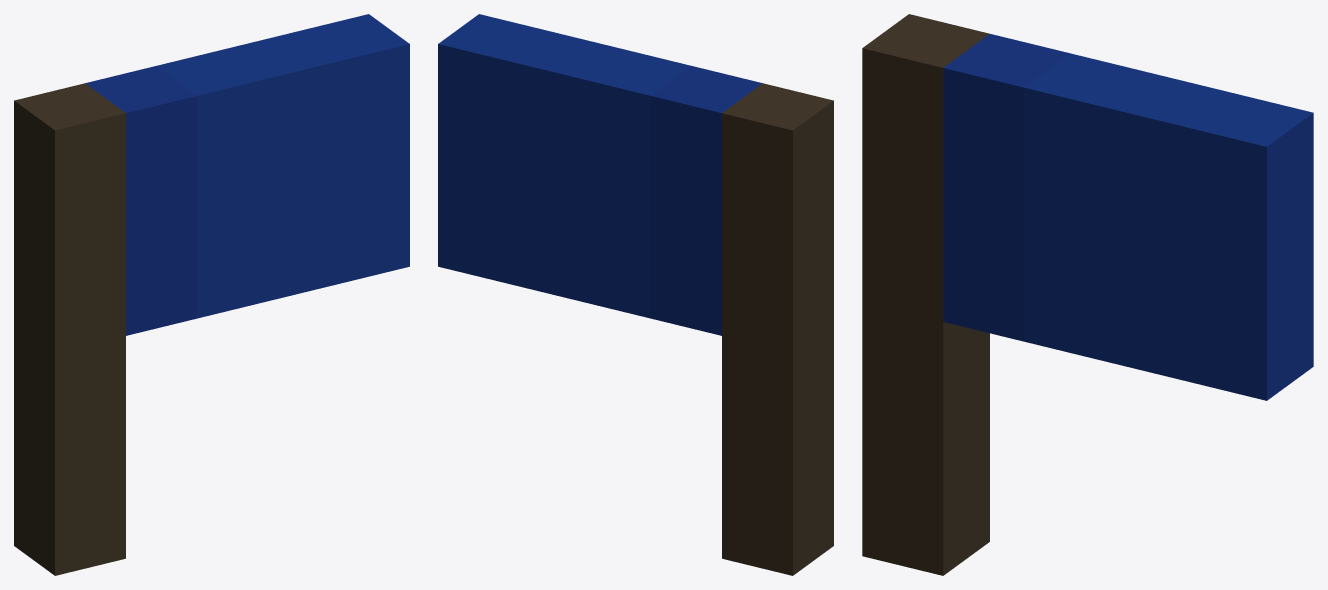
Rendered from overworld-1-props_flagblue.obj.
The picture shows the model from 3 angles, left to right: view 1: azimuth 30°, elevation 25°; view 2: azimuth 150°, elevation 25°; view 3: azimuth 330°, elevation 25°; orthographic projection. The views are drawn at different scales.
Visible parts, largest first — view 1: props_flagblue; view 2: props_flagblue; view 3: props_flagblue.
Boxes of the visible parts, x1,y1,x2,y2 form: props_flagblue: (14,14,409,575); props_flagblue: (438,14,833,575); props_flagblue: (862,14,1313,575).
Size of the model in its own units: 0.5 by 0.6 by 0.1.
Materials: 1 (1 with a texture image).
